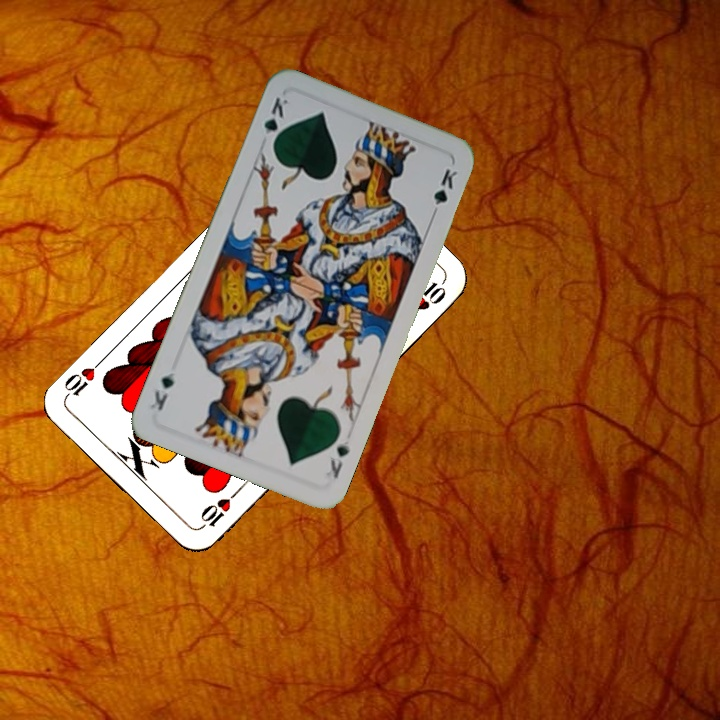GK: (259, 93, 291, 150), (321, 435, 352, 481)
H10: (196, 486, 243, 532)
